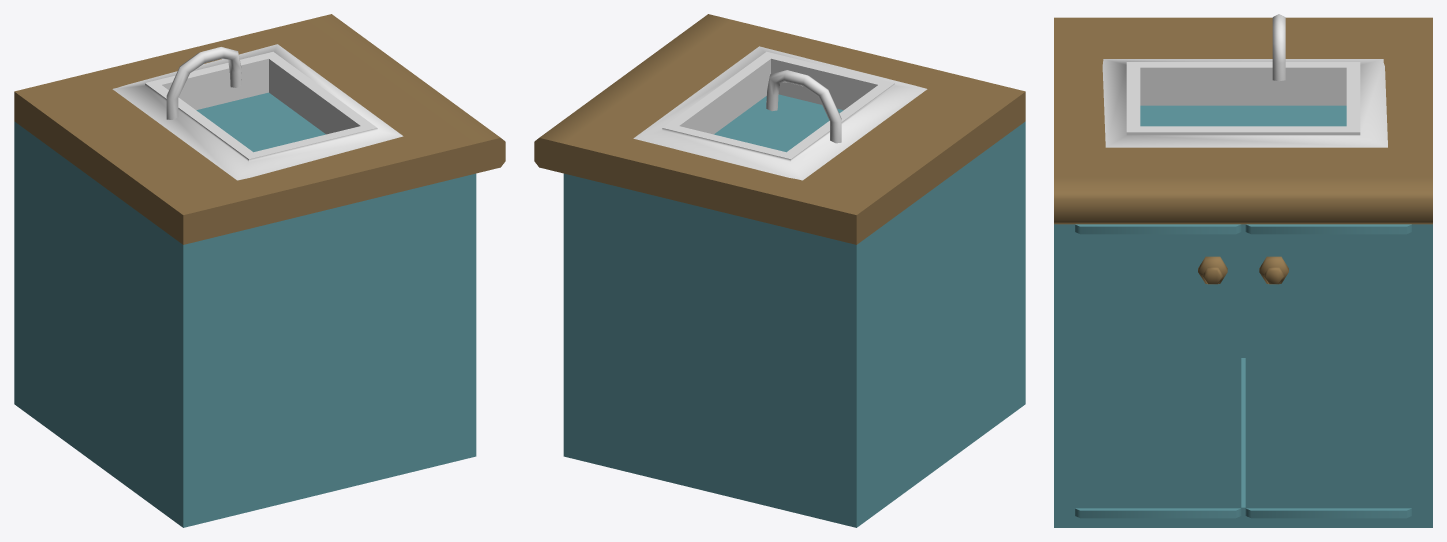
The model's file is surfaceEvier.fbx.
3 views of the same model, side by side, from view 1: azimuth 30°, elevation 25°; view 2: azimuth 150°, elevation 25°; view 3: azimuth 270°, elevation 25° (orthographic). The views are drawn at different scales.
Parts seen in each view (by area): view 1: Cube, Cube_2, Flotte, Evier_1, Cylinder; view 2: Cube, Cube_2, Flotte, Evier_1, Cylinder; view 3: Cube_1, Cube_2, Flotte, Cube, Evier_1, Cylinder_2, Cylinder.
Boxes of the visible parts, x1,y1,x2,y2 form: Cube: (14,121,476,527); Cube_2: (14,14,505,244); Flotte: (112,44,403,180); Evier_1: (196,92,325,152); Cylinder: (166,47,241,119); Cube: (563,121,1025,527); Cube_2: (534,14,1025,244); Flotte: (633,46,927,180); Evier_1: (714,94,843,152); Cylinder: (766,70,841,143); Cube_1: (1074,224,1412,518); Cube_2: (1054,17,1432,224); Flotte: (1102,59,1387,147); Cube: (1054,224,1432,527); Evier_1: (1140,105,1346,126); Cylinder_2: (1198,256,1288,284); Cylinder: (1272,14,1285,81).
Size of the model in its own units: 220 by 244 by 200.
